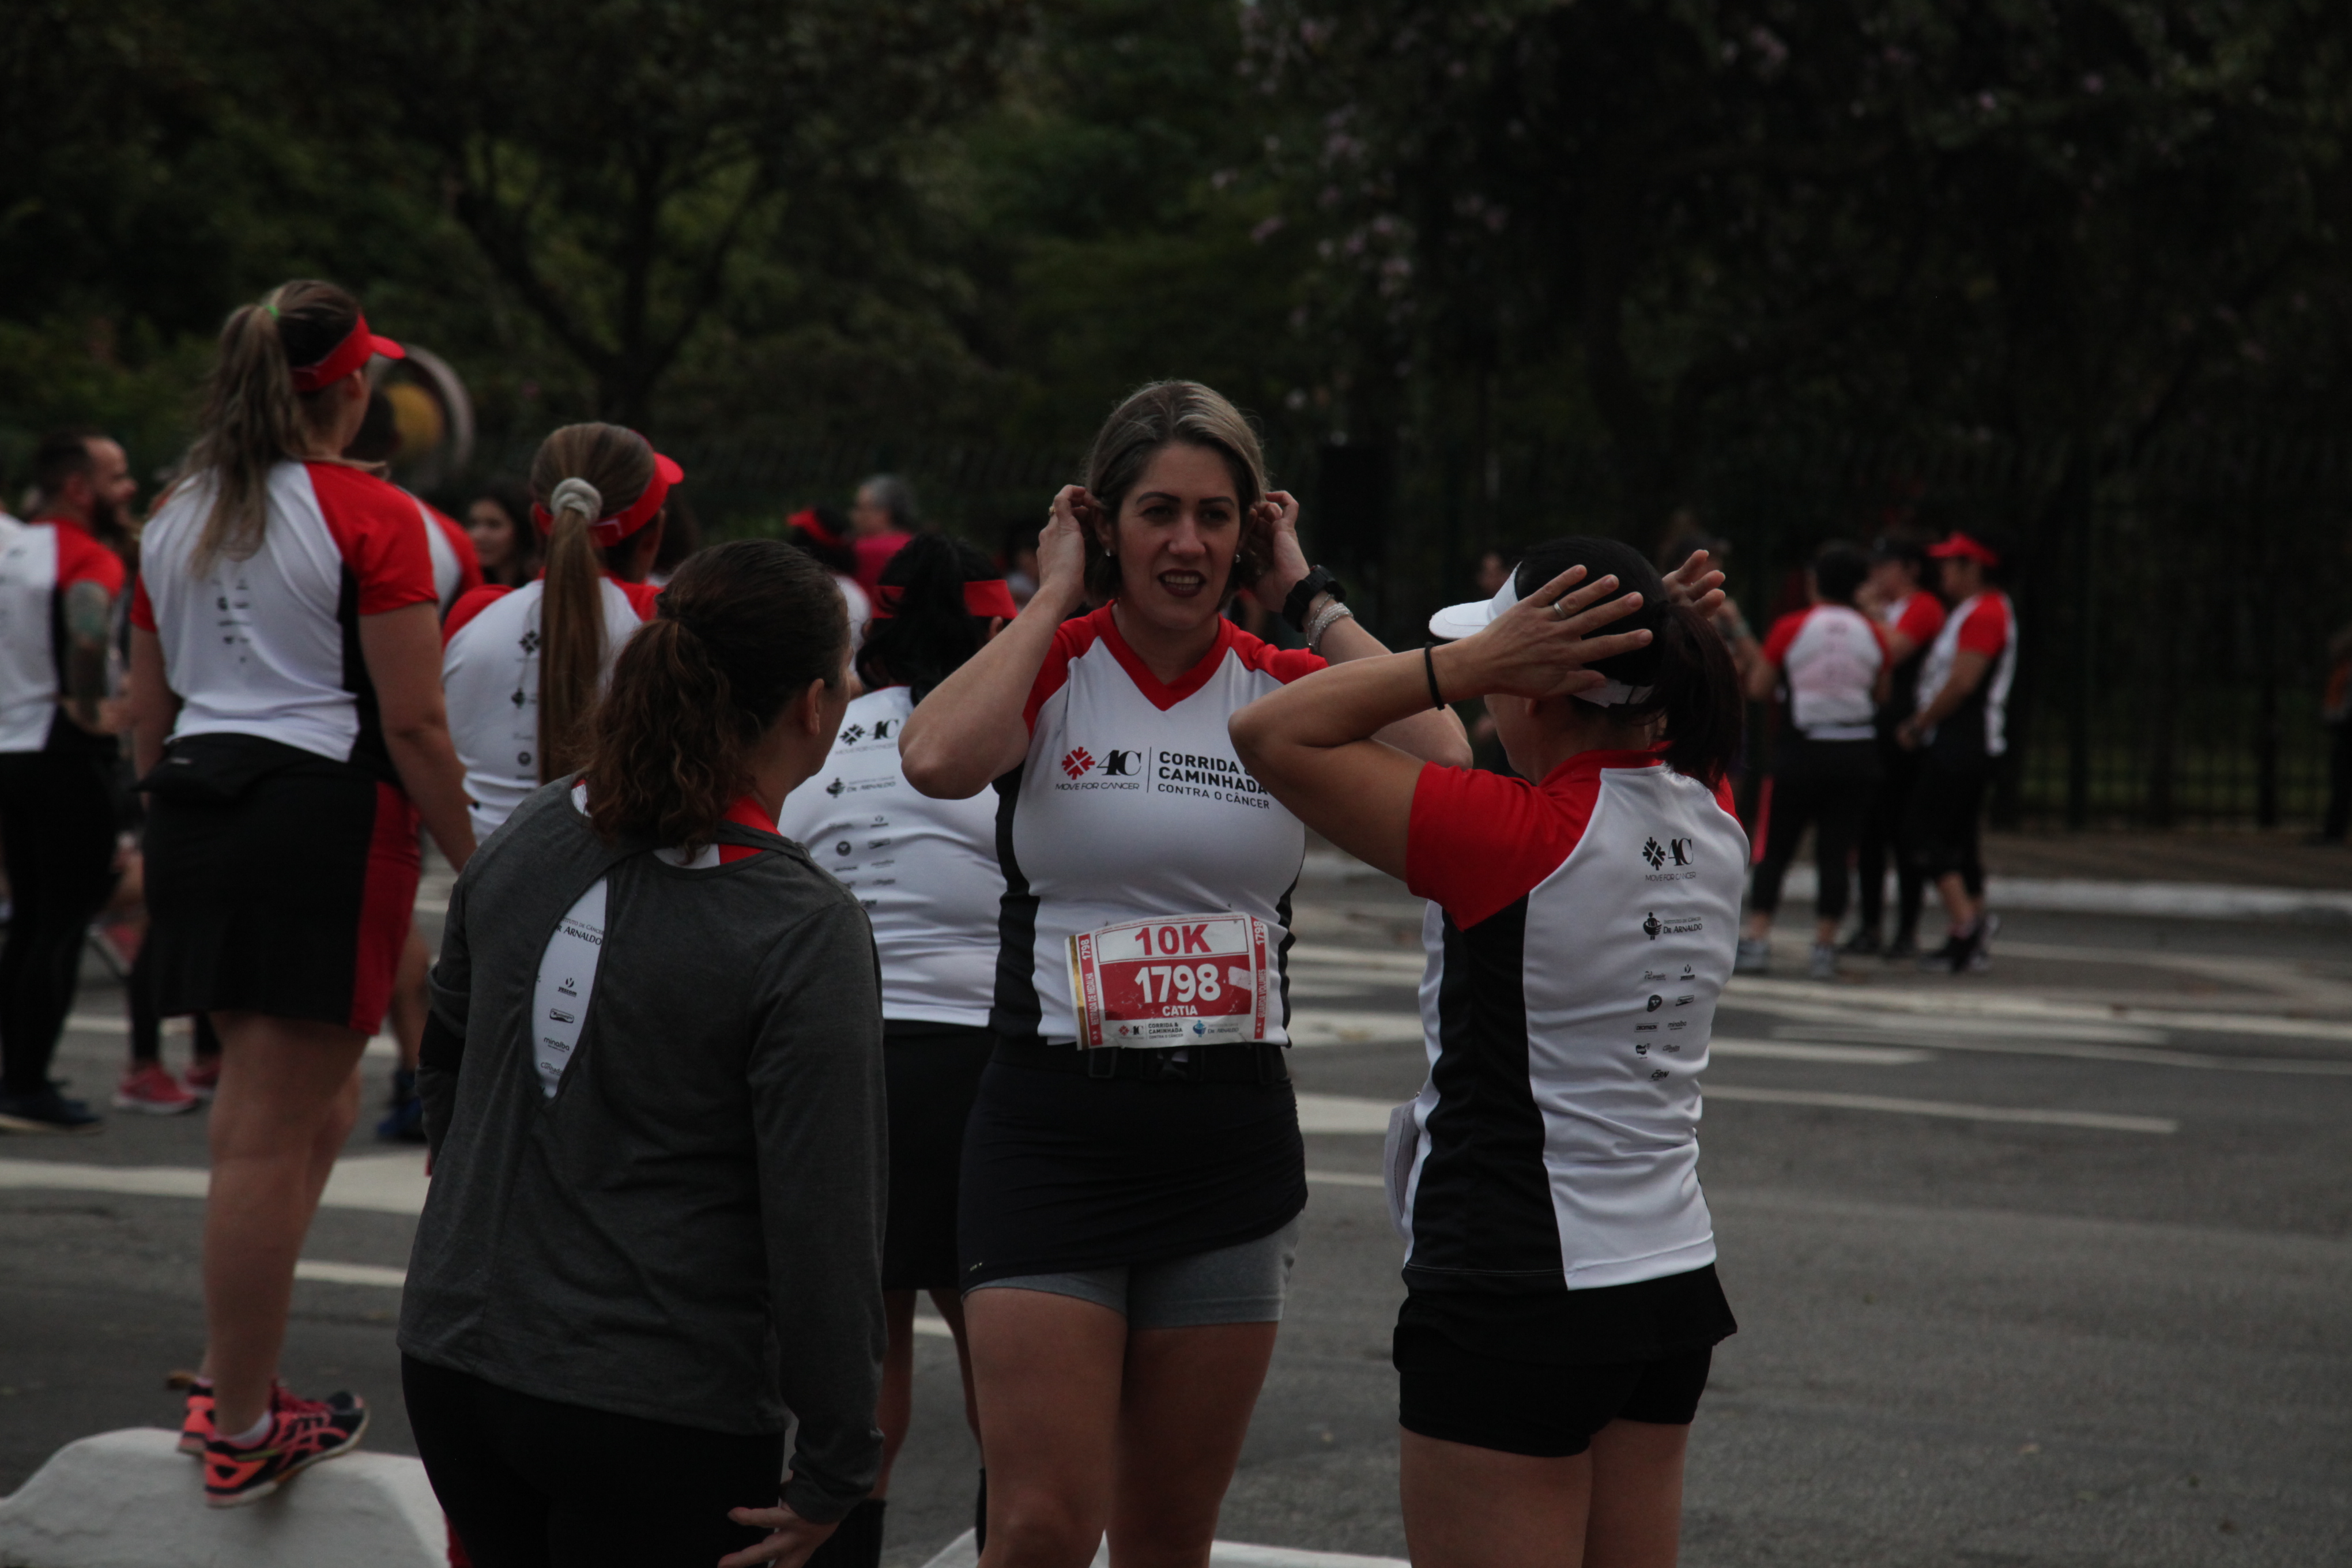bibtag: (1053, 906, 1290, 1066)
